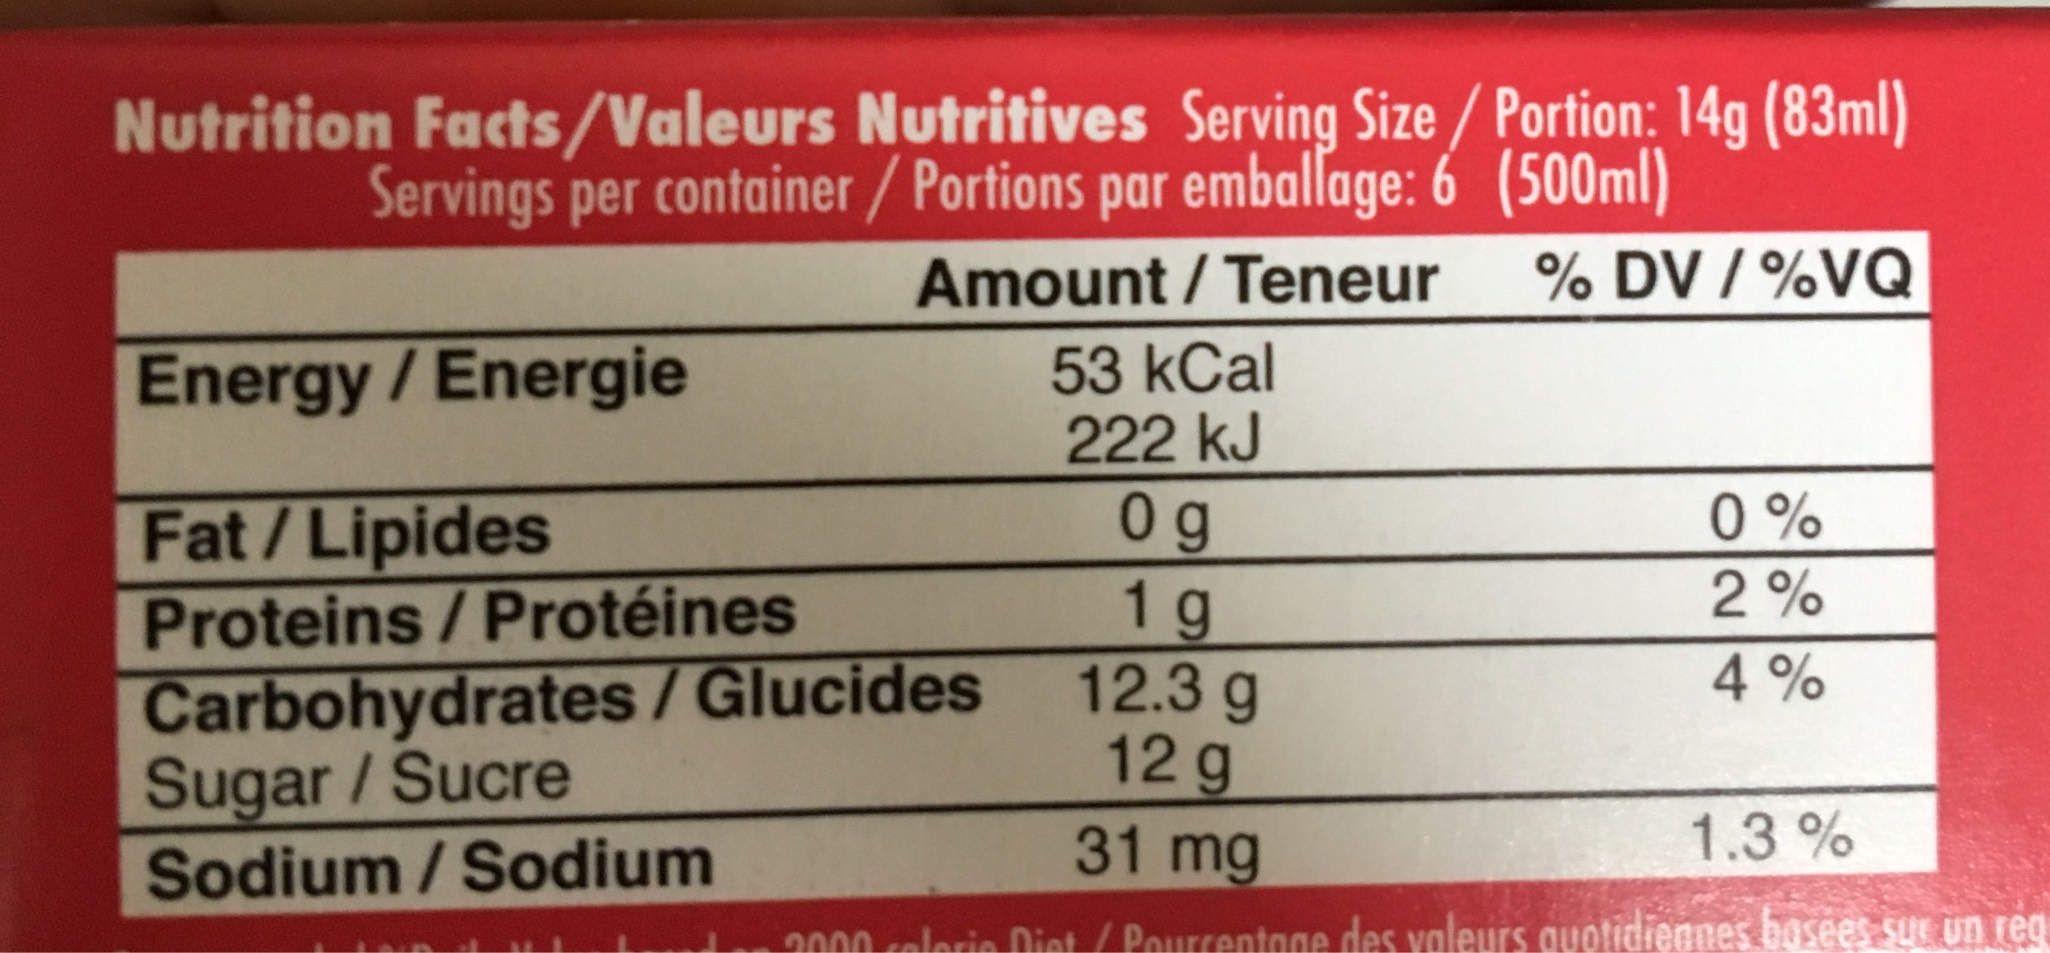column: (129, 336, 988, 897), (1534, 246, 1921, 861), (1046, 343, 1289, 888)
table: (103, 227, 1938, 916)
